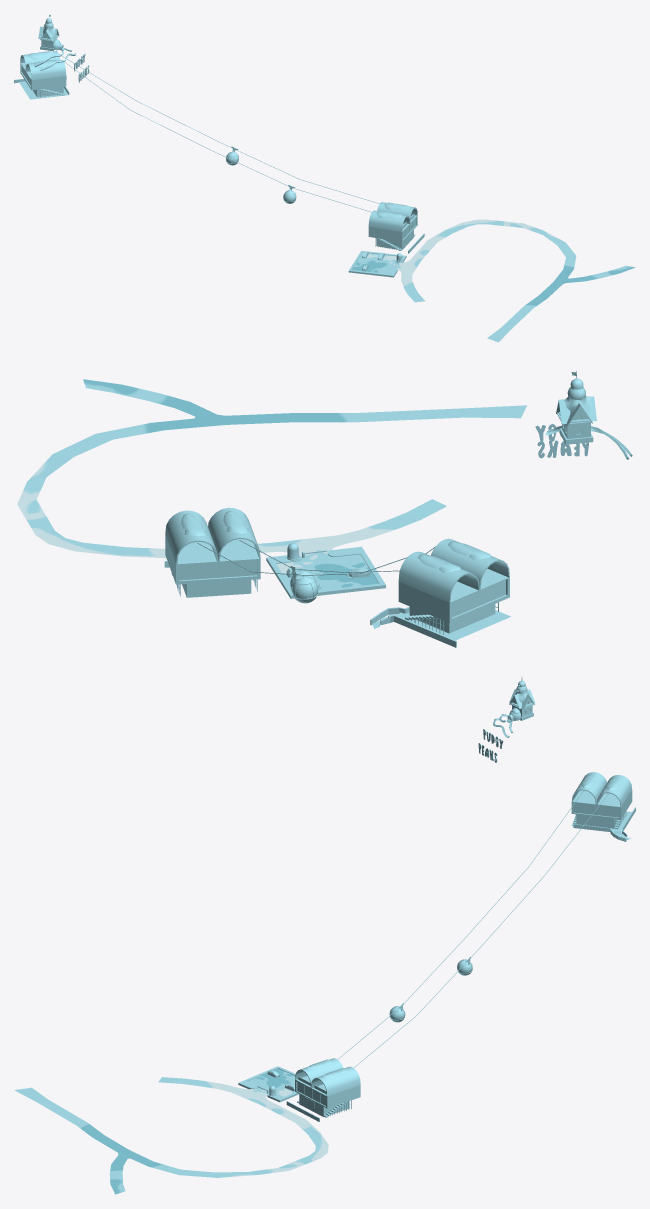
File: Neighborhood_PudgyPeaksLocked.fbx
The picture shows the model from 3 angles, top to bottom: view 1: azimuth 30°, elevation 25°; view 2: azimuth 150°, elevation 25°; view 3: azimuth 270°, elevation 25°; orthographic projection. The views are drawn at different scales.
Parts seen in each view (by area): view 1: Neighborhood_PudgyPeaksLocked_Object_YellowCar, PudgyPeaks_Road; view 2: Neighborhood_PudgyPeaksLocked_Object_YellowCar, PudgyPeaks_Road; view 3: Neighborhood_PudgyPeaksLocked_Object_YellowCar, PudgyPeaks_Road.
Boxes of the visible parts, bbox=[...] form: Neighborhood_PudgyPeaksLocked_Object_YellowCar: bbox=[14, 14, 424, 277]; PudgyPeaks_Road: bbox=[352, 219, 635, 342]; Neighborhood_PudgyPeaksLocked_Object_YellowCar: bbox=[164, 371, 632, 647]; PudgyPeaks_Road: bbox=[17, 379, 526, 590]; Neighborhood_PudgyPeaksLocked_Object_YellowCar: bbox=[238, 676, 635, 1121]; PudgyPeaks_Road: bbox=[14, 1068, 328, 1194].
Size of the model in its own units: 10224 by 5169 by 10535.
